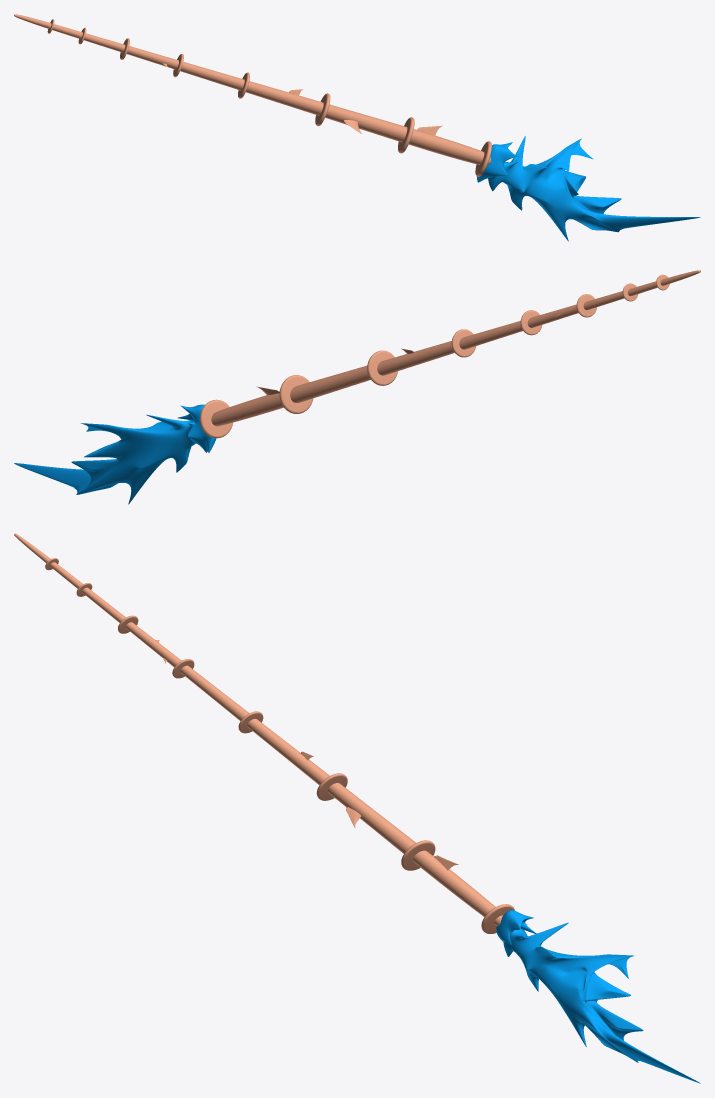
Rendered from Sketchfab_2019_07_22_14_34_45.fbx.
3 renders of one model, top to bottom at view 1: azimuth 30°, elevation 25°; view 2: azimuth 150°, elevation 25°; view 3: azimuth 330°, elevation 25°, orthographic. The views are drawn at different scales.
Parts seen in each view (by area): view 1: Cube.004; view 2: Cube.004; view 3: Cube.004.
Part boxes in pixels (x1,y1,x2,y2): Cube.004: (14, 14, 700, 241); Cube.004: (14, 270, 700, 504); Cube.004: (14, 533, 700, 1083).
Bounding box in the file's own units: 1231 × 635 × 86.63.
